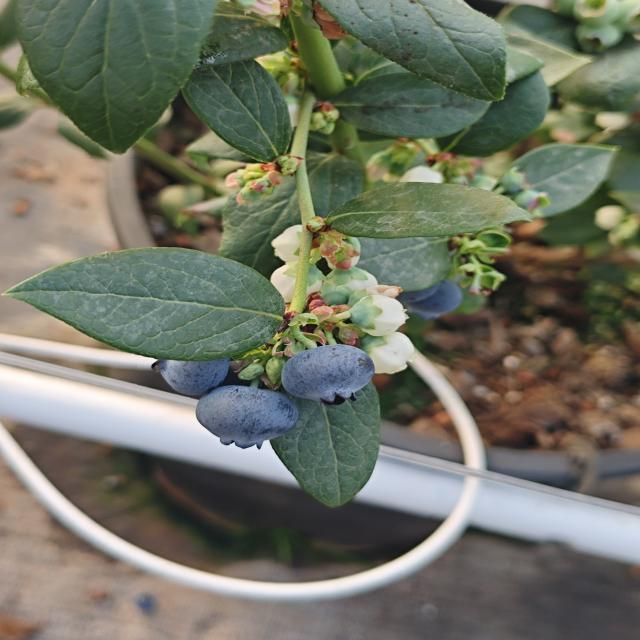ripe: (193, 383, 300, 451), (278, 342, 378, 406), (391, 271, 468, 322), (149, 356, 233, 398)
